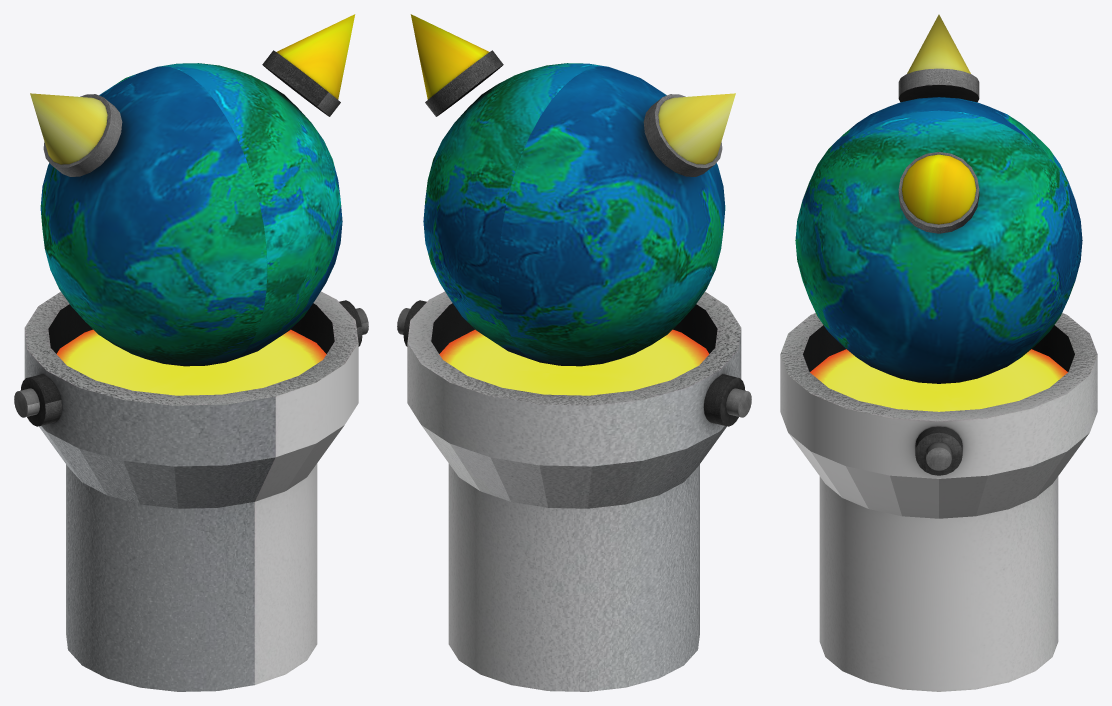
Rendered from GlobeforEvent.fbx.
3 renders of one model, left to right at view 1: azimuth 30°, elevation 25°; view 2: azimuth 150°, elevation 25°; view 3: azimuth 270°, elevation 25°, orthographic. The views are drawn at different scales.
Visible parts, largest first — view 1: pCylinder1, pSphere1, pCone1, pCone2, pCylinder6, pCylinder7, pCylinder3, pCylinder4; view 2: pCylinder1, pSphere1, pCone1, pCone2, pCylinder6, pCylinder7, pCylinder3, pCylinder4; view 3: pCylinder1, pSphere1, pCone2, pCylinder6, pCone1, pCylinder2, pCylinder7, pCylinder5.
Boxes of the visible parts, bbox=[...] form: pCylinder1: bbox=[24, 291, 358, 691]; pSphere1: bbox=[40, 63, 342, 366]; pCone1: bbox=[30, 93, 107, 164]; pCone2: bbox=[276, 14, 355, 99]; pCylinder6: bbox=[43, 94, 122, 176]; pCylinder7: bbox=[262, 50, 340, 116]; pCylinder3: bbox=[20, 374, 62, 426]; pCylinder4: bbox=[14, 388, 39, 417]; pCylinder1: bbox=[407, 291, 741, 691]; pSphere1: bbox=[423, 63, 725, 366]; pCone1: bbox=[658, 93, 735, 164]; pCone2: bbox=[410, 14, 489, 99]; pCylinder6: bbox=[643, 94, 722, 176]; pCylinder7: bbox=[425, 50, 503, 116]; pCylinder3: bbox=[703, 374, 745, 426]; pCylinder4: bbox=[726, 388, 751, 417]; pCylinder1: bbox=[780, 313, 1097, 691]; pSphere1: bbox=[795, 97, 1082, 383]; pCone2: bbox=[901, 154, 976, 224]; pCylinder6: bbox=[898, 68, 979, 102]; pCone1: bbox=[907, 14, 970, 73]; pCylinder2: bbox=[915, 426, 962, 475]; pCylinder7: bbox=[898, 152, 979, 233]; pCylinder5: bbox=[926, 442, 951, 470].
Size of the model in its own units: 4.69 by 7.69 by 4.
